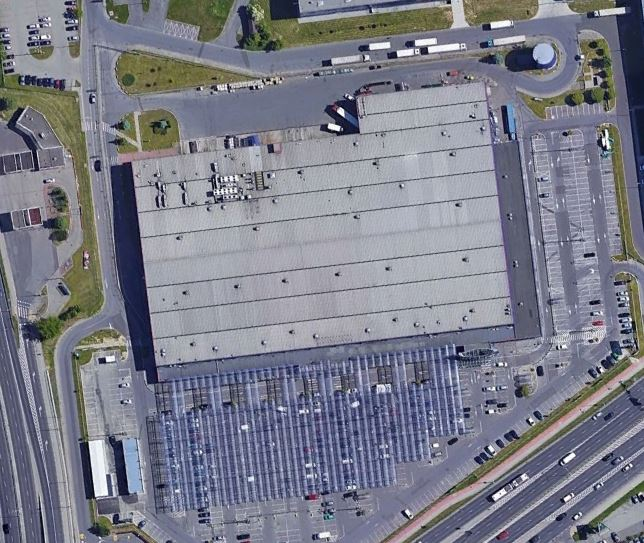shopping_center: (127, 67, 538, 390)
